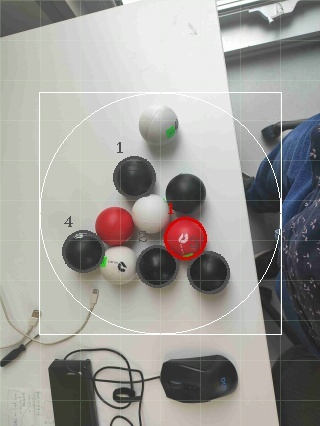Pelota blanca: (159, 353, 238, 405), (90, 347, 145, 408), (137, 103, 179, 147), (137, 379, 177, 425), (129, 193, 169, 235), (98, 244, 137, 286), (106, 414, 133, 425)
Pelota negra: (185, 249, 230, 296), (60, 228, 105, 272), (135, 244, 179, 288), (111, 156, 155, 198), (164, 172, 206, 216)
Pelota roja: (161, 214, 209, 262), (92, 204, 137, 246)
